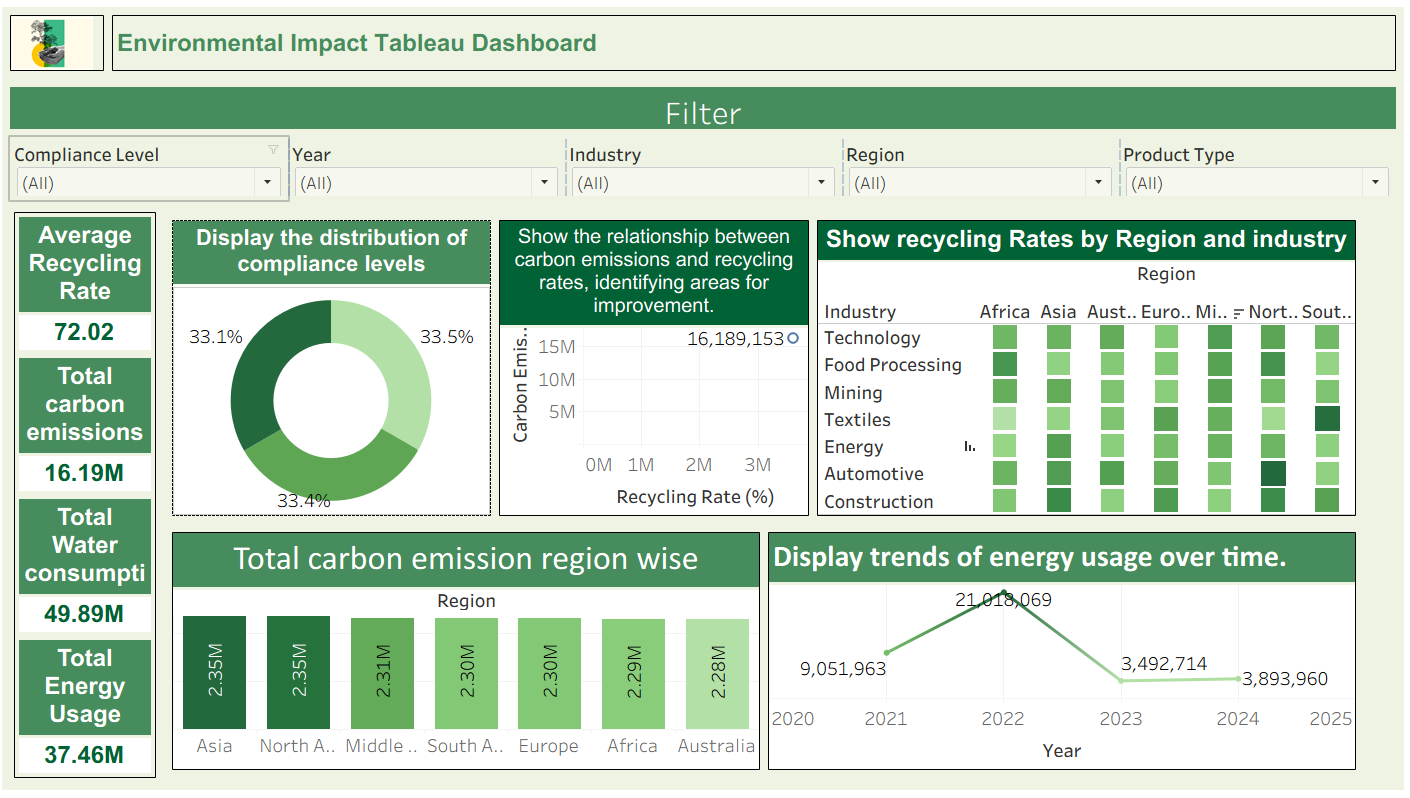

Layout of this report page (visuals, bound fields, positions):
{"tool":"tableau","page":{"name":"Dashboard 1","canvas":[1000,1000],"units":"permille","ordinal":0},"visuals":[{"type":"image","param":"D:/Tableau project/ENVIRONMENT/Logo.jpg","box":[36,44.3,65.5,69.1]},{"type":"text","box":[101.4,44.3,829.3,69.1]},{"type":"worksheet","title":"Filter","mark":"Automatic","box":[36,122,894.7,54]},{"type":"filter","title":"Filter","param":"[federated.1iora8x0tiwvb61659ivl03lgrlw].[none:Compliance Level:nk]","box":[38.5,180.3,178.4,68]},{"type":"filter","title":"Filter","param":"[federated.1iora8x0tiwvb61659ivl03lgrlw].[none:Year:ok]","box":[216.9,180.3,177.8,68]},{"type":"filter","title":"Filter","param":"[federated.1iora8x0tiwvb61659ivl03lgrlw].[none:Industry:nk]","box":[394.7,180.3,177.8,68]},{"type":"filter","title":"Filter","param":"[federated.1iora8x0tiwvb61659ivl03lgrlw].[none:Region:nk]","box":[572.5,180.3,177.8,68]},{"type":"filter","title":"Filter","param":"[federated.1iora8x0tiwvb61659ivl03lgrlw].[none:Product Type:nk]","box":[750.3,180.3,177.8,68]},{"type":"worksheet","title":"Average recycling rate","mark":"Automatic","box":[41.7,262.4,89.9,152.3]},{"type":"worksheet","title":"Display the distribution of compliance levels","mark":"Pie","rows":["Calculation_0574271418171392","Calculation_0574271418171392"],"box":[139.9,265.7,209.9,328.3]},{"type":"worksheet","title":"Show the relationship between carbon emissions and recycling rates, identifying areas for improvement.","mark":"Automatic","rows":["Carbon Emissions (kg)"],"cols":["Recycling Rate (%)"],"box":[349.8,265.7,204.1,328.3]},{"type":"worksheet","title":"Show recycling rates by region and industry","mark":"Automatic","rows":["Industry"],"cols":["Region"],"box":[553.9,265.7,351.1,328.3]},{"type":"worksheet","title":"Total carbon emissions","mark":"Automatic","box":[41.7,414.7,89.9,152.3]},{"type":"worksheet","title":"Total water consumption","mark":"Automatic","box":[41.7,566.9,89.9,152.3]},{"type":"worksheet","title":"Region wise carbon emisson","mark":"Automatic","rows":["Carbon Emissions (kg)"],"cols":["Region"],"box":[139.9,602.6,382.5,265.7]},{"type":"worksheet","title":"Display trends of energy usage over time.","mark":"Automatic","rows":["Energy Usage (kWh)"],"cols":["Year"],"box":[522.5,602.6,382.6,265.7]},{"type":"worksheet","title":"Total Energy Usage","mark":"Automatic","box":[41.7,719.2,89.9,152.3]}]}

Visuals, with their boxes on the dashboard's canvas, which has no fixed pixel size, in thousandths of its width and height (x1, y1, x2, y2). These are canvas units, not pixel positions in the 1410x798 screenshot, which may show the page scaled, cropped or inside an application window:
image: rect(36, 44, 102, 113)
text: rect(101, 44, 931, 113)
"Filter" worksheet: rect(36, 122, 931, 176)
"Filter" filter: rect(38, 180, 217, 248)
"Filter" filter: rect(217, 180, 395, 248)
"Filter" filter: rect(395, 180, 572, 248)
"Filter" filter: rect(572, 180, 750, 248)
"Filter" filter: rect(750, 180, 928, 248)
"Average recycling rate" worksheet: rect(42, 262, 132, 415)
"Display the distribution of compliance levels" worksheet (Pie marks): rect(140, 266, 350, 594)
"Show the relationship between carbon emissions and recycling rates, identifying areas for improvement." worksheet: rect(350, 266, 554, 594)
"Show recycling rates by region and industry" worksheet: rect(554, 266, 905, 594)
"Total carbon emissions" worksheet: rect(42, 415, 132, 567)
"Total water consumption" worksheet: rect(42, 567, 132, 719)
"Region wise carbon emisson" worksheet: rect(140, 603, 522, 868)
"Display trends of energy usage over time." worksheet: rect(522, 603, 905, 868)
"Total Energy Usage" worksheet: rect(42, 719, 132, 872)
